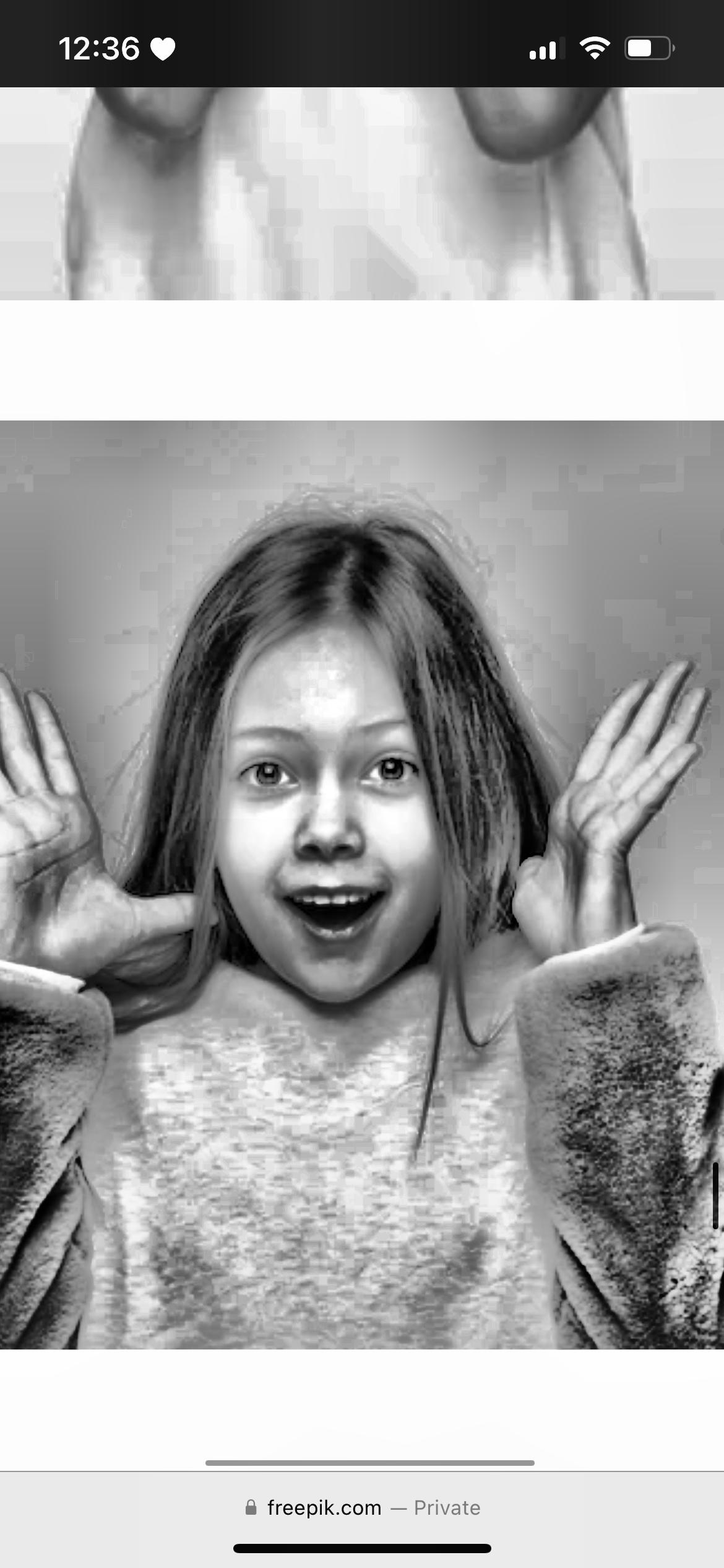surprised: (213, 605, 450, 1012)
